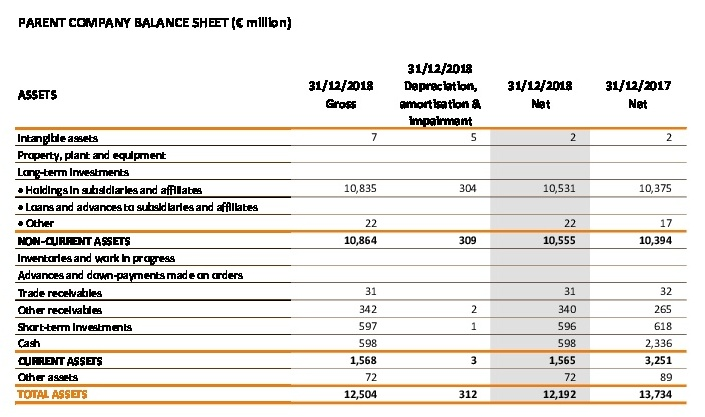table: (0, 0, 705, 417)
